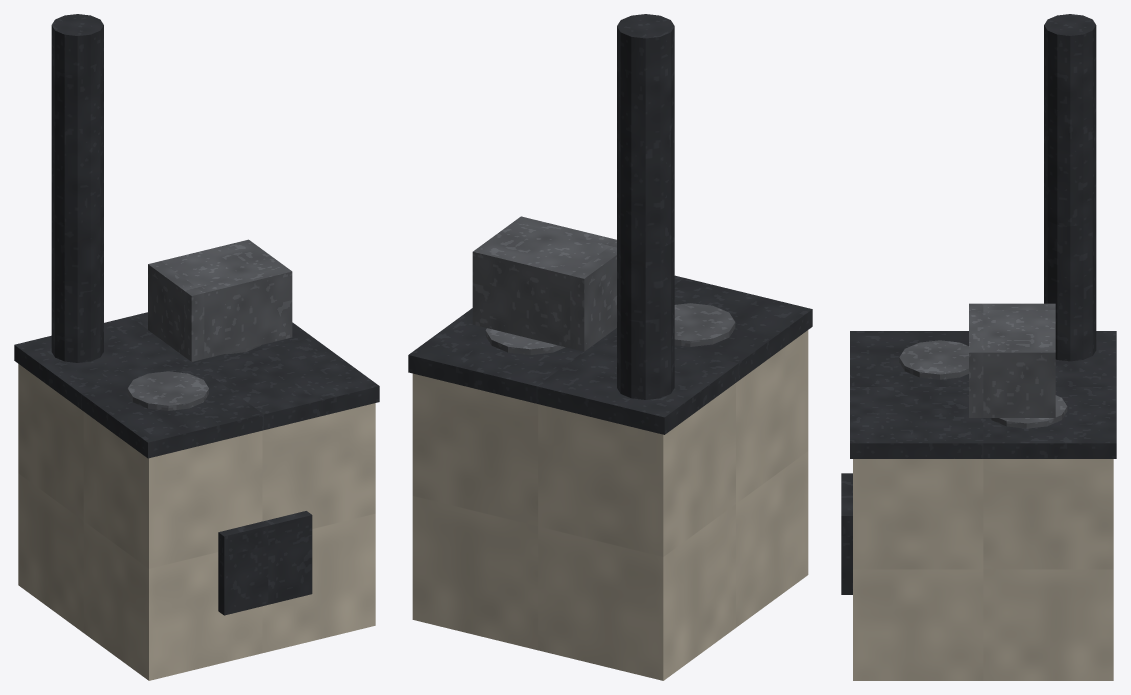
Rendered from piec.glb.
3 views of the same model, side by side, from view 1: azimuth 30°, elevation 25°; view 2: azimuth 150°, elevation 25°; view 3: azimuth 270°, elevation 25° (orthographic). The views are drawn at different scales.
Visible parts, largest first — view 1: piec; view 2: piec; view 3: piec.
Boxes of the visible parts, x1,y1,x2,y2 form: piec: (14,14,379,680); piec: (408,14,812,680); piec: (841,14,1116,680).
Bounding box in the file's own units: 0.92 × 2.15 × 0.95.
Materials: 3 (3 with a texture image).
